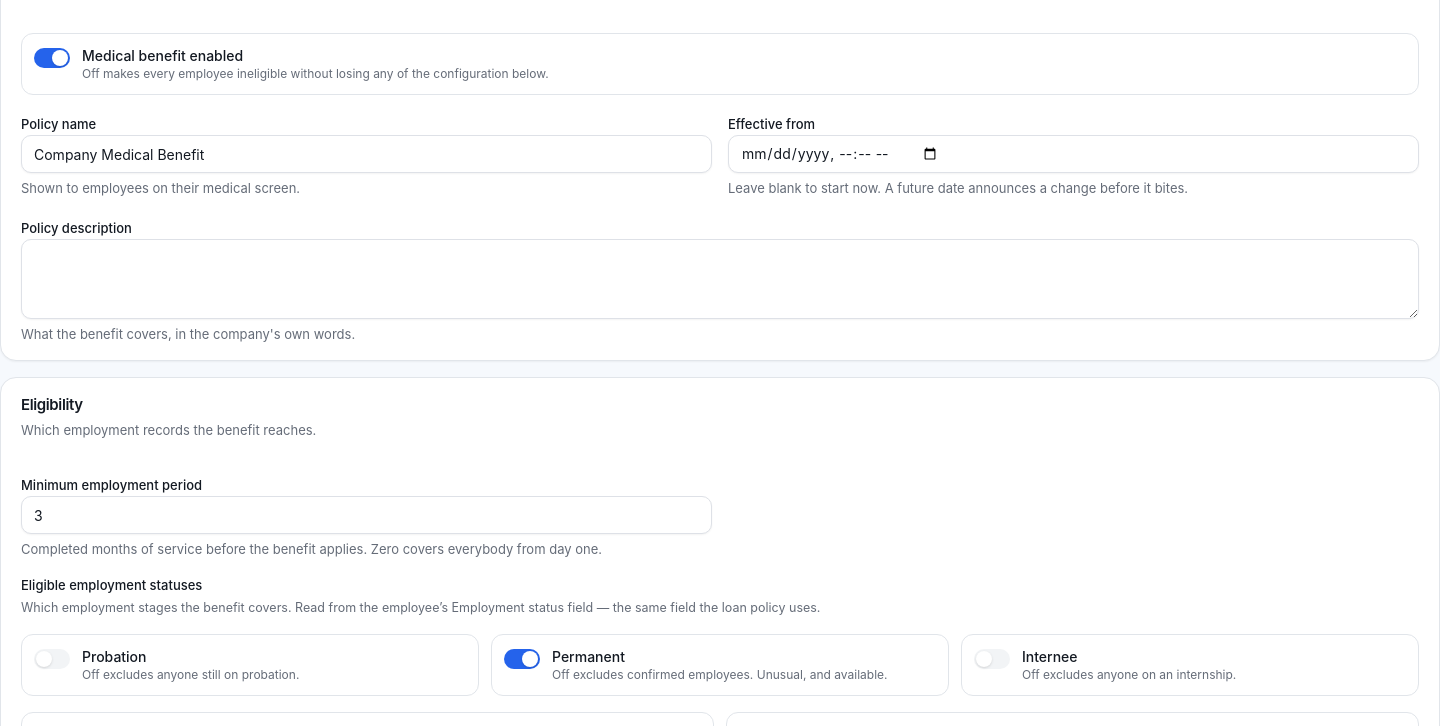
Test case: validation the screen enforces before anything is sent › refuses a negative minimum employment period
Check: the heading "Eligibility" is shown, box [21,395,83,414]
Replace the text in the number field labelled "Minimum employment period" with "-1" at point(366, 515), box [21,496,712,534]
(page scrolled)
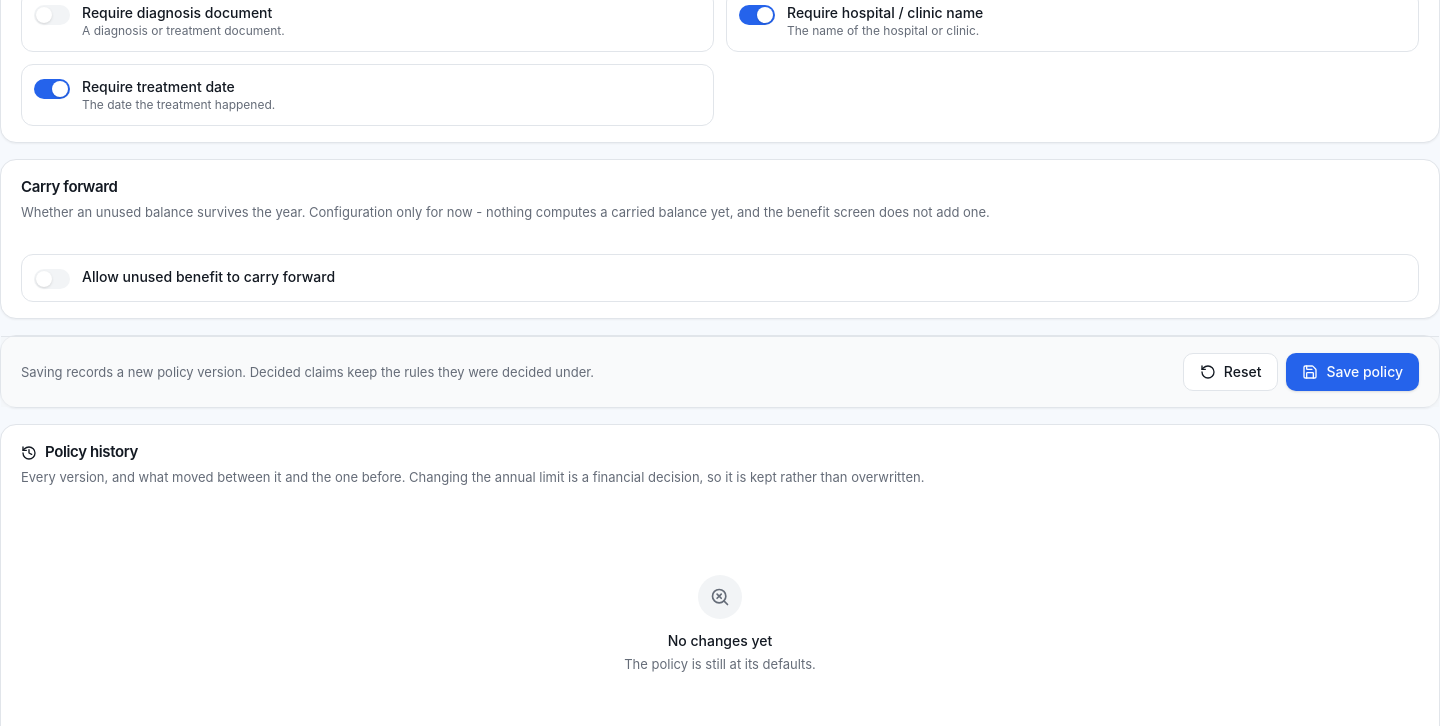
Click the button "Save policy" at point(1353, 372), box [1286,353,1419,391]
(page scrolled)
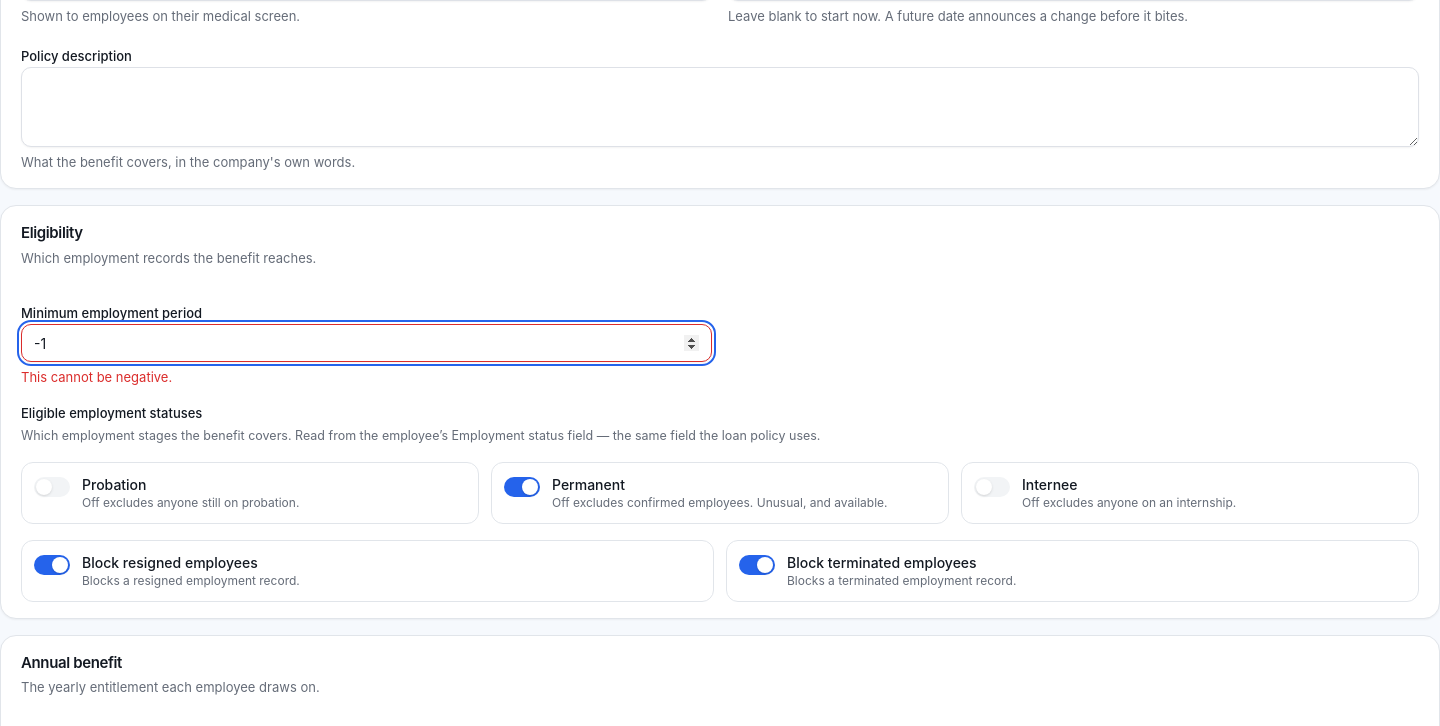
Check: the text "This cannot be negative." is shown, box [21,369,172,385]
